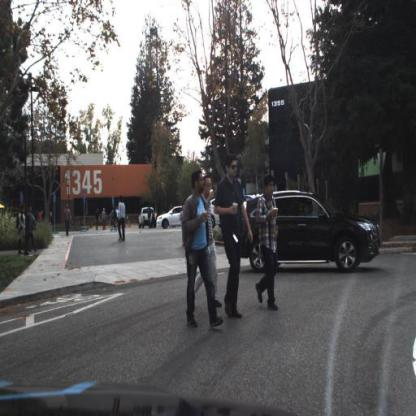biker: (114, 206, 122, 230)
car: (235, 190, 383, 273), (154, 204, 188, 230), (156, 205, 186, 230), (24, 204, 38, 254), (137, 207, 155, 228)
pedestrian: (179, 171, 225, 329), (213, 156, 254, 321), (255, 175, 286, 315), (195, 172, 224, 317), (197, 174, 219, 309), (15, 204, 29, 260), (116, 195, 128, 245), (27, 204, 35, 259), (63, 203, 74, 238), (63, 203, 72, 237), (94, 205, 101, 232), (103, 207, 108, 233)
